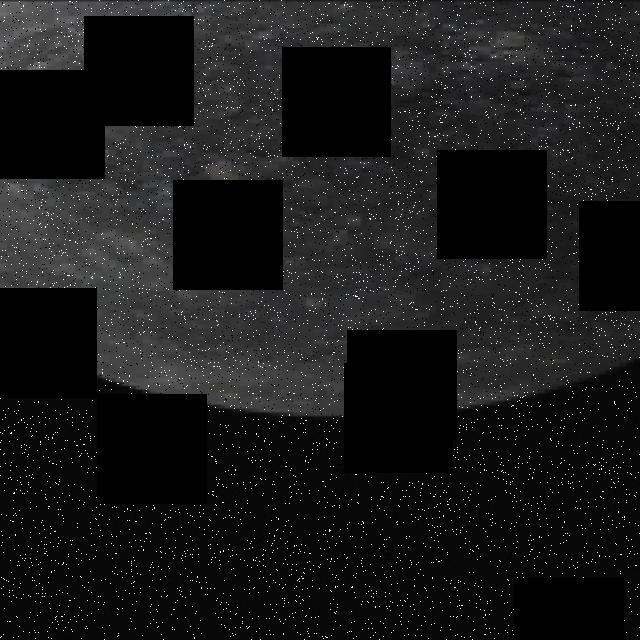Mercury: (0, 0, 640, 423)
